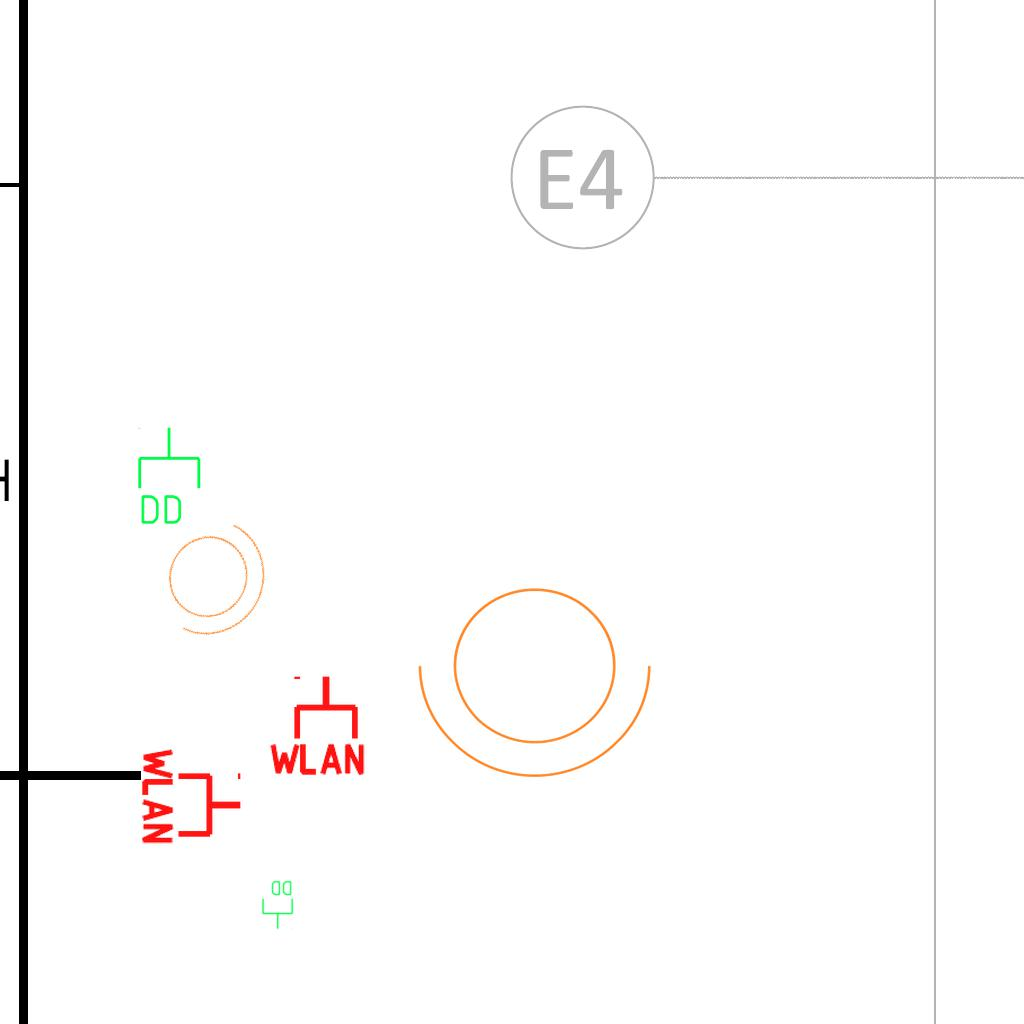Datenanschluss_zweifach: (134, 425, 203, 528), (261, 879, 295, 930)
Scheinwerfer_fuer_Alarmbeleuchtung: (409, 563, 673, 788), (134, 492, 294, 660)
WLAN: (265, 672, 369, 777), (140, 744, 245, 848)
